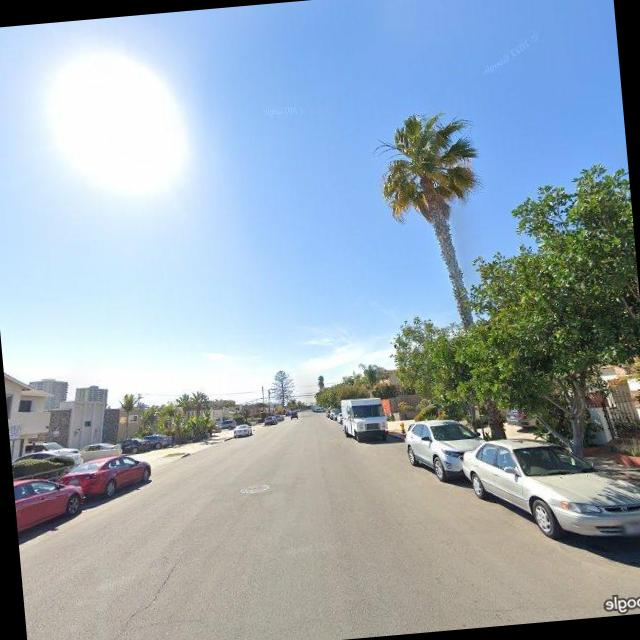pothole: (74, 552, 193, 640)
